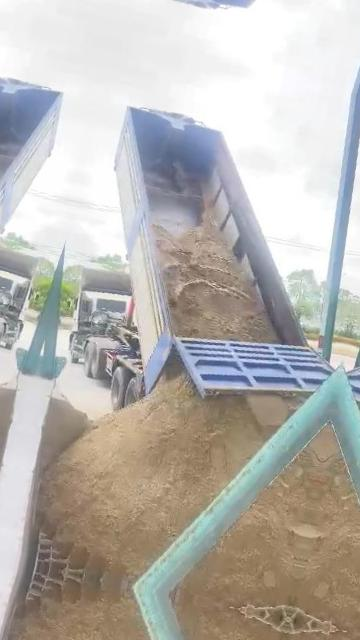sand: (35, 369, 306, 583), (179, 432, 326, 606), (154, 216, 278, 342), (39, 396, 91, 477)
